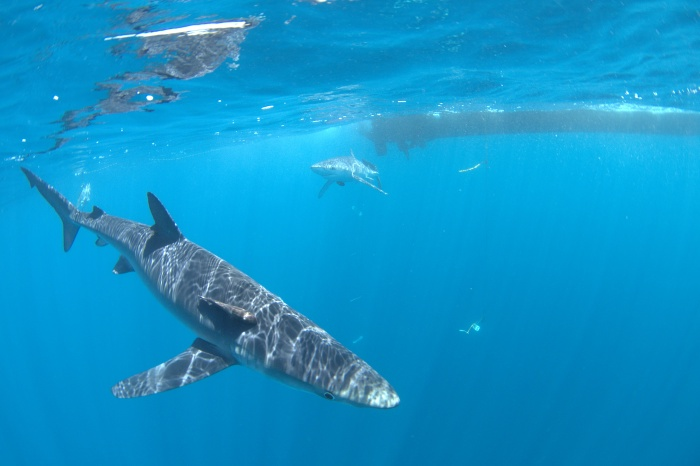Azul: (18, 162, 421, 432)
